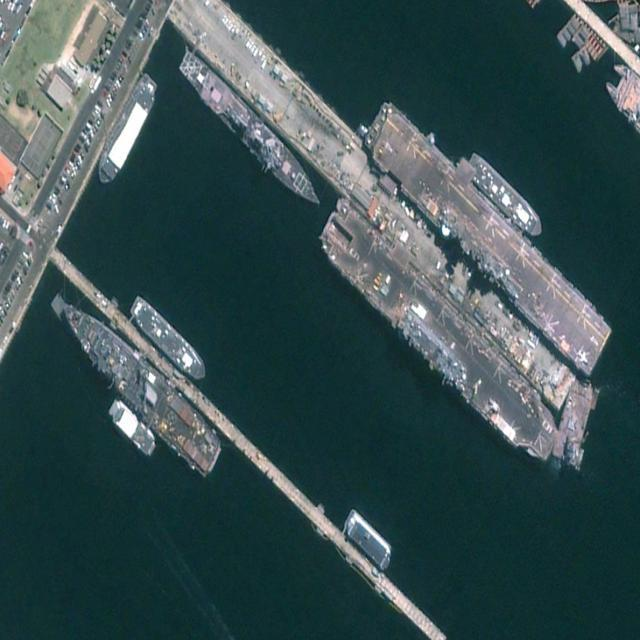Destroyer: (175, 45, 328, 216)
Landing: (357, 96, 615, 379), (313, 192, 566, 475), (53, 288, 227, 482)
Other Ship: (91, 67, 161, 192), (126, 292, 210, 388), (463, 149, 548, 243), (341, 508, 398, 577), (106, 395, 161, 463)
